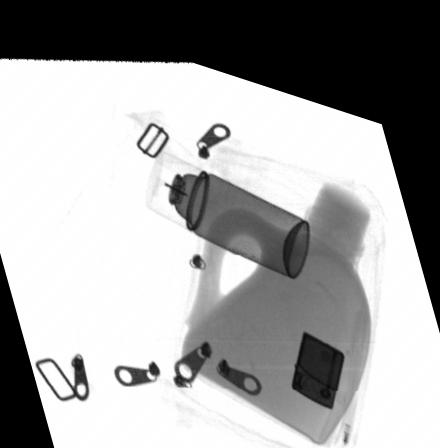Lighter: (289, 311, 344, 387)
Sprayer: (144, 136, 307, 259)
